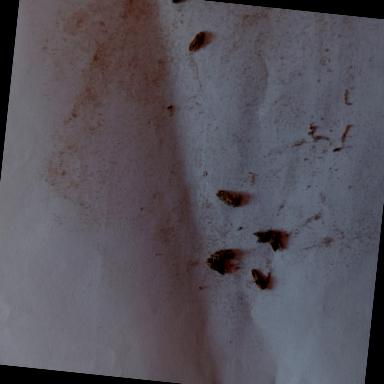pbw: (251, 227, 282, 246), (202, 256, 230, 276), (214, 188, 240, 208), (264, 228, 284, 254), (248, 268, 270, 290), (209, 246, 236, 263), (187, 29, 205, 54)
